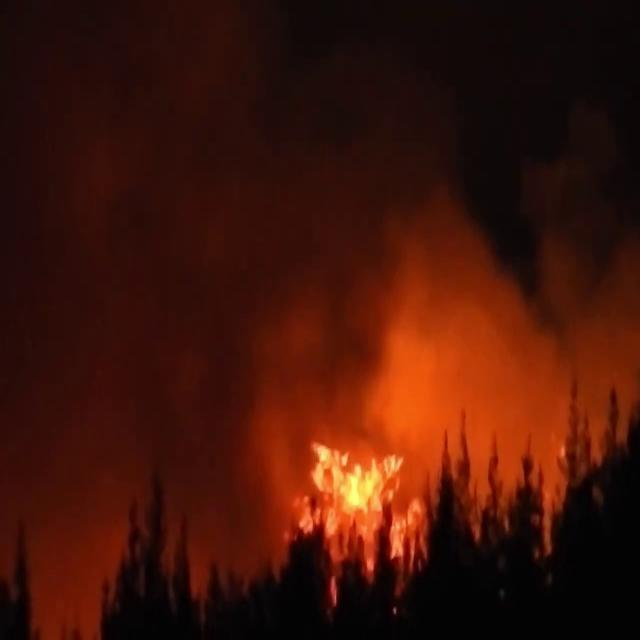Fire: (304, 434, 424, 564), (314, 447, 394, 516)
Smoke: (0, 59, 268, 448), (298, 114, 640, 380)
